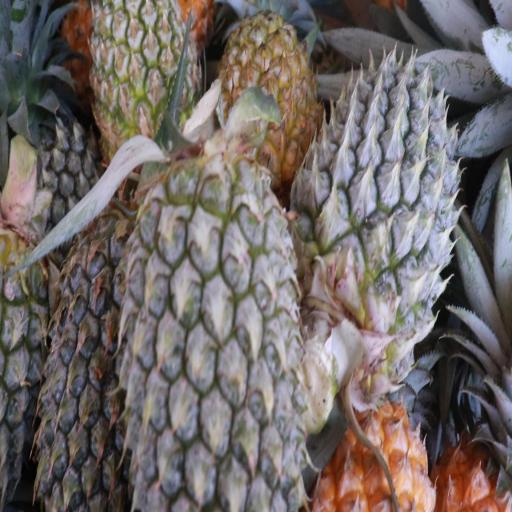------------------------------: (93, 1, 198, 141)
Pineapple - v8 v1: (313, 381, 438, 512), (211, 9, 314, 162)
